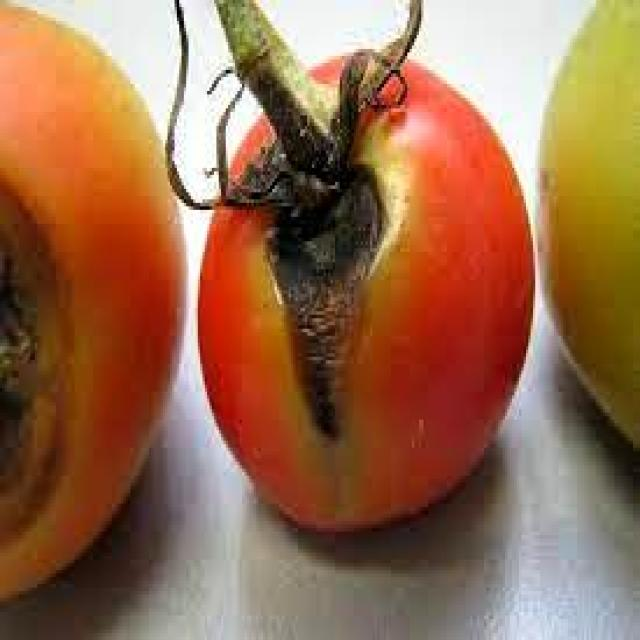Rotten_Tomato: (198, 35, 538, 546), (0, 0, 189, 605)
